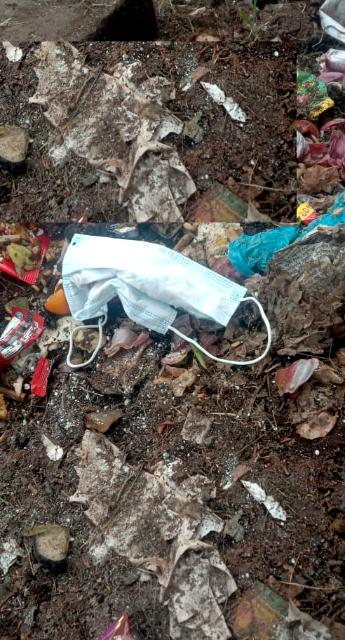mask: (62, 237, 259, 336)
